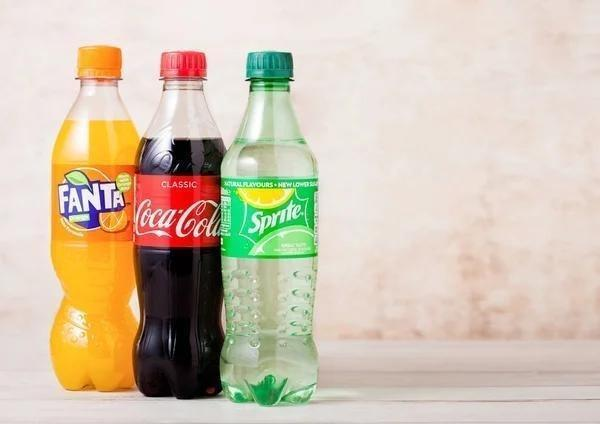bottle-plastic: (213, 41, 326, 412), (130, 47, 234, 400), (43, 40, 144, 396)
